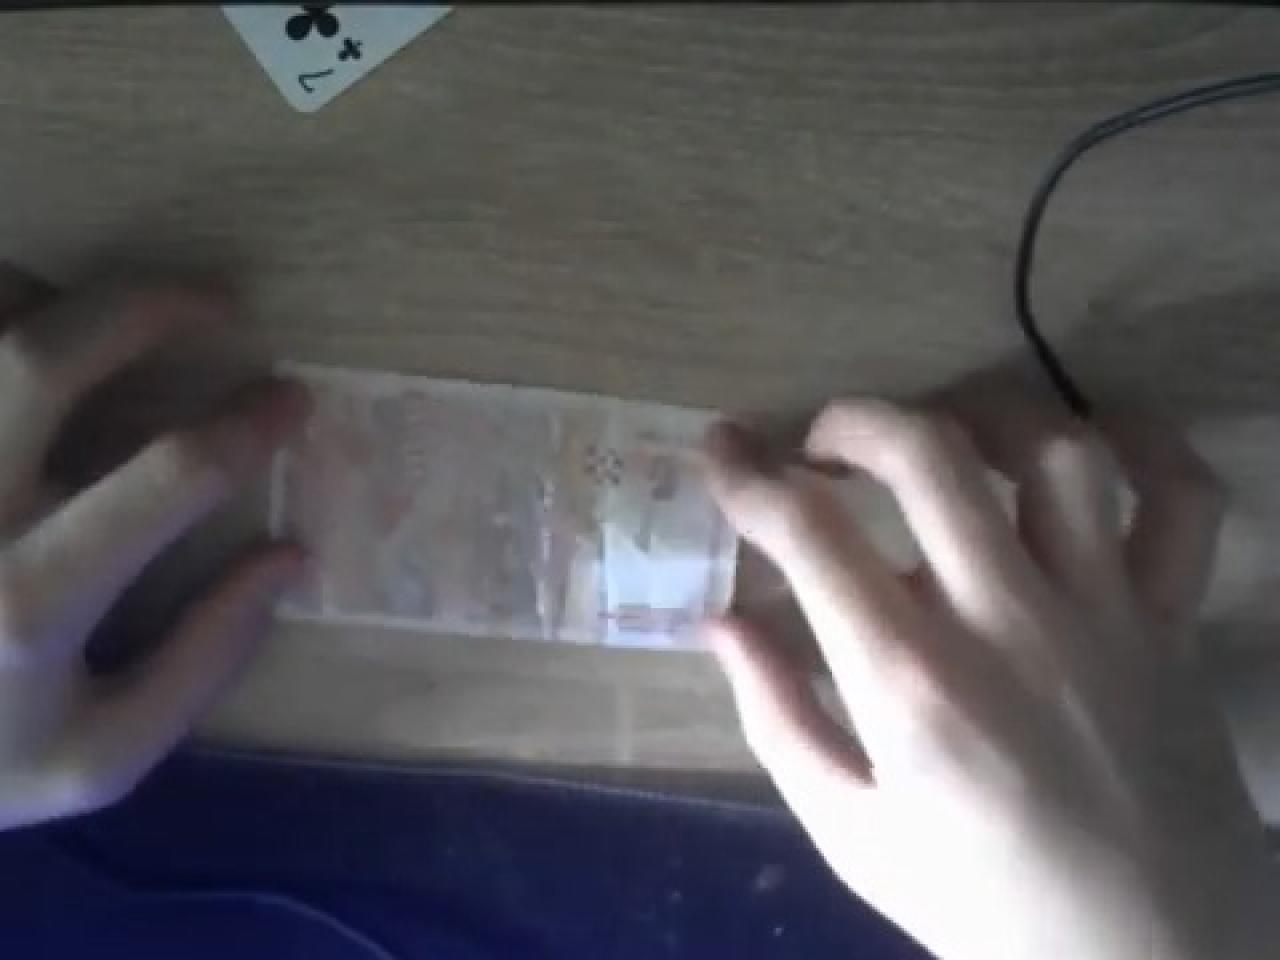5leva: (272, 365, 734, 650)
